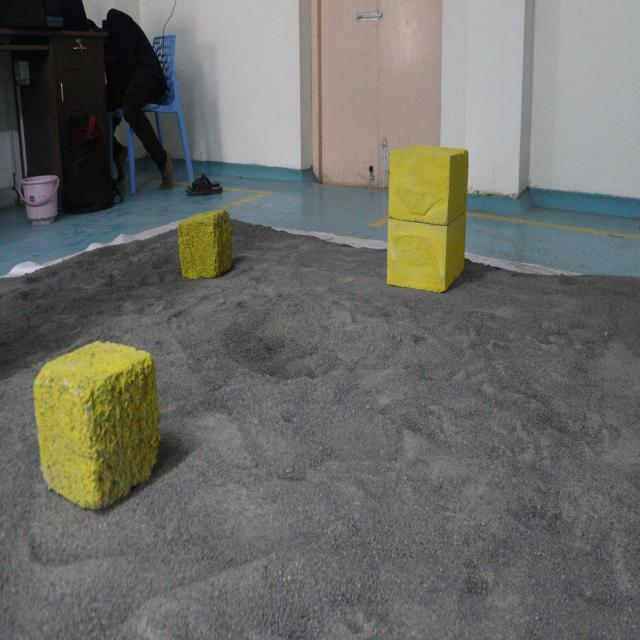box: (32, 341, 169, 510), (382, 141, 467, 298), (180, 210, 237, 280)
crater: (221, 295, 389, 394)
